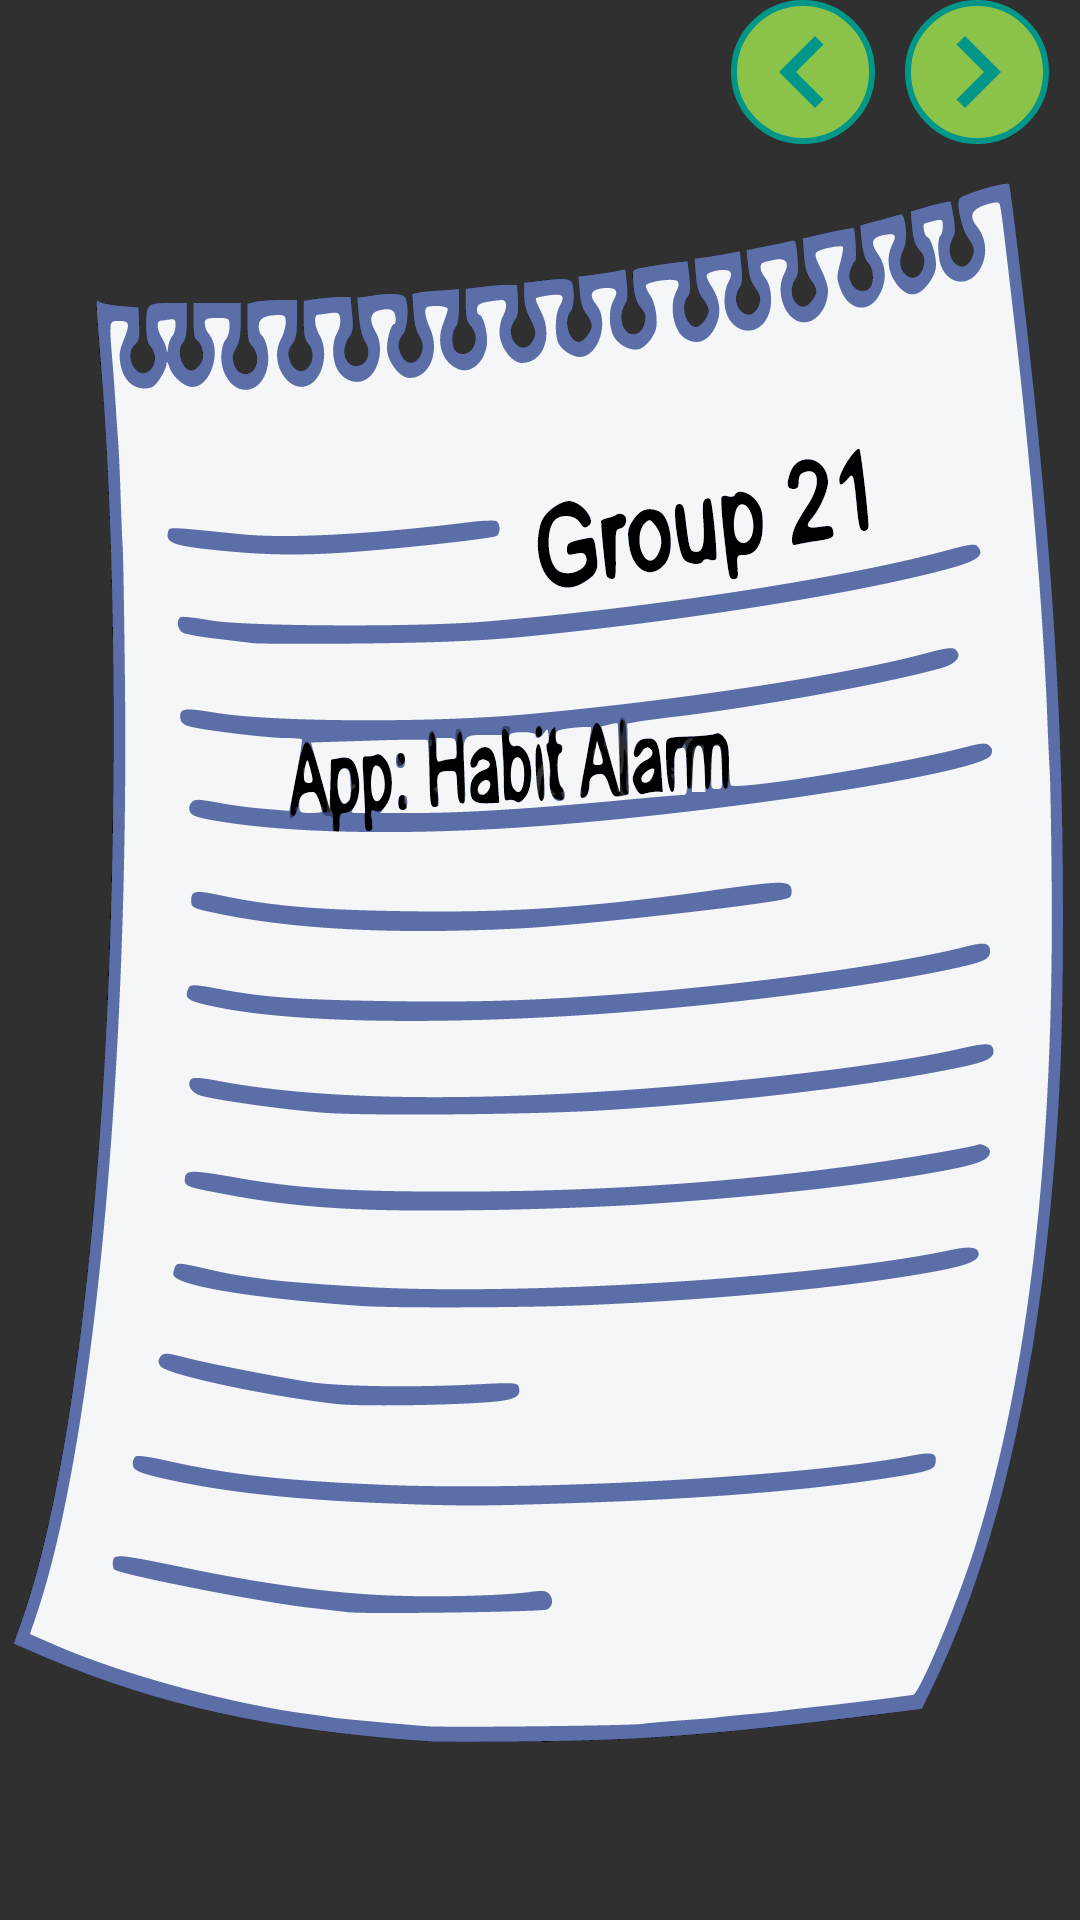

Icons on this 1080*1920 Android screen, each with the point to tap as [x,y]:
arrow left: [803,72]
arrow right: [977,72]
